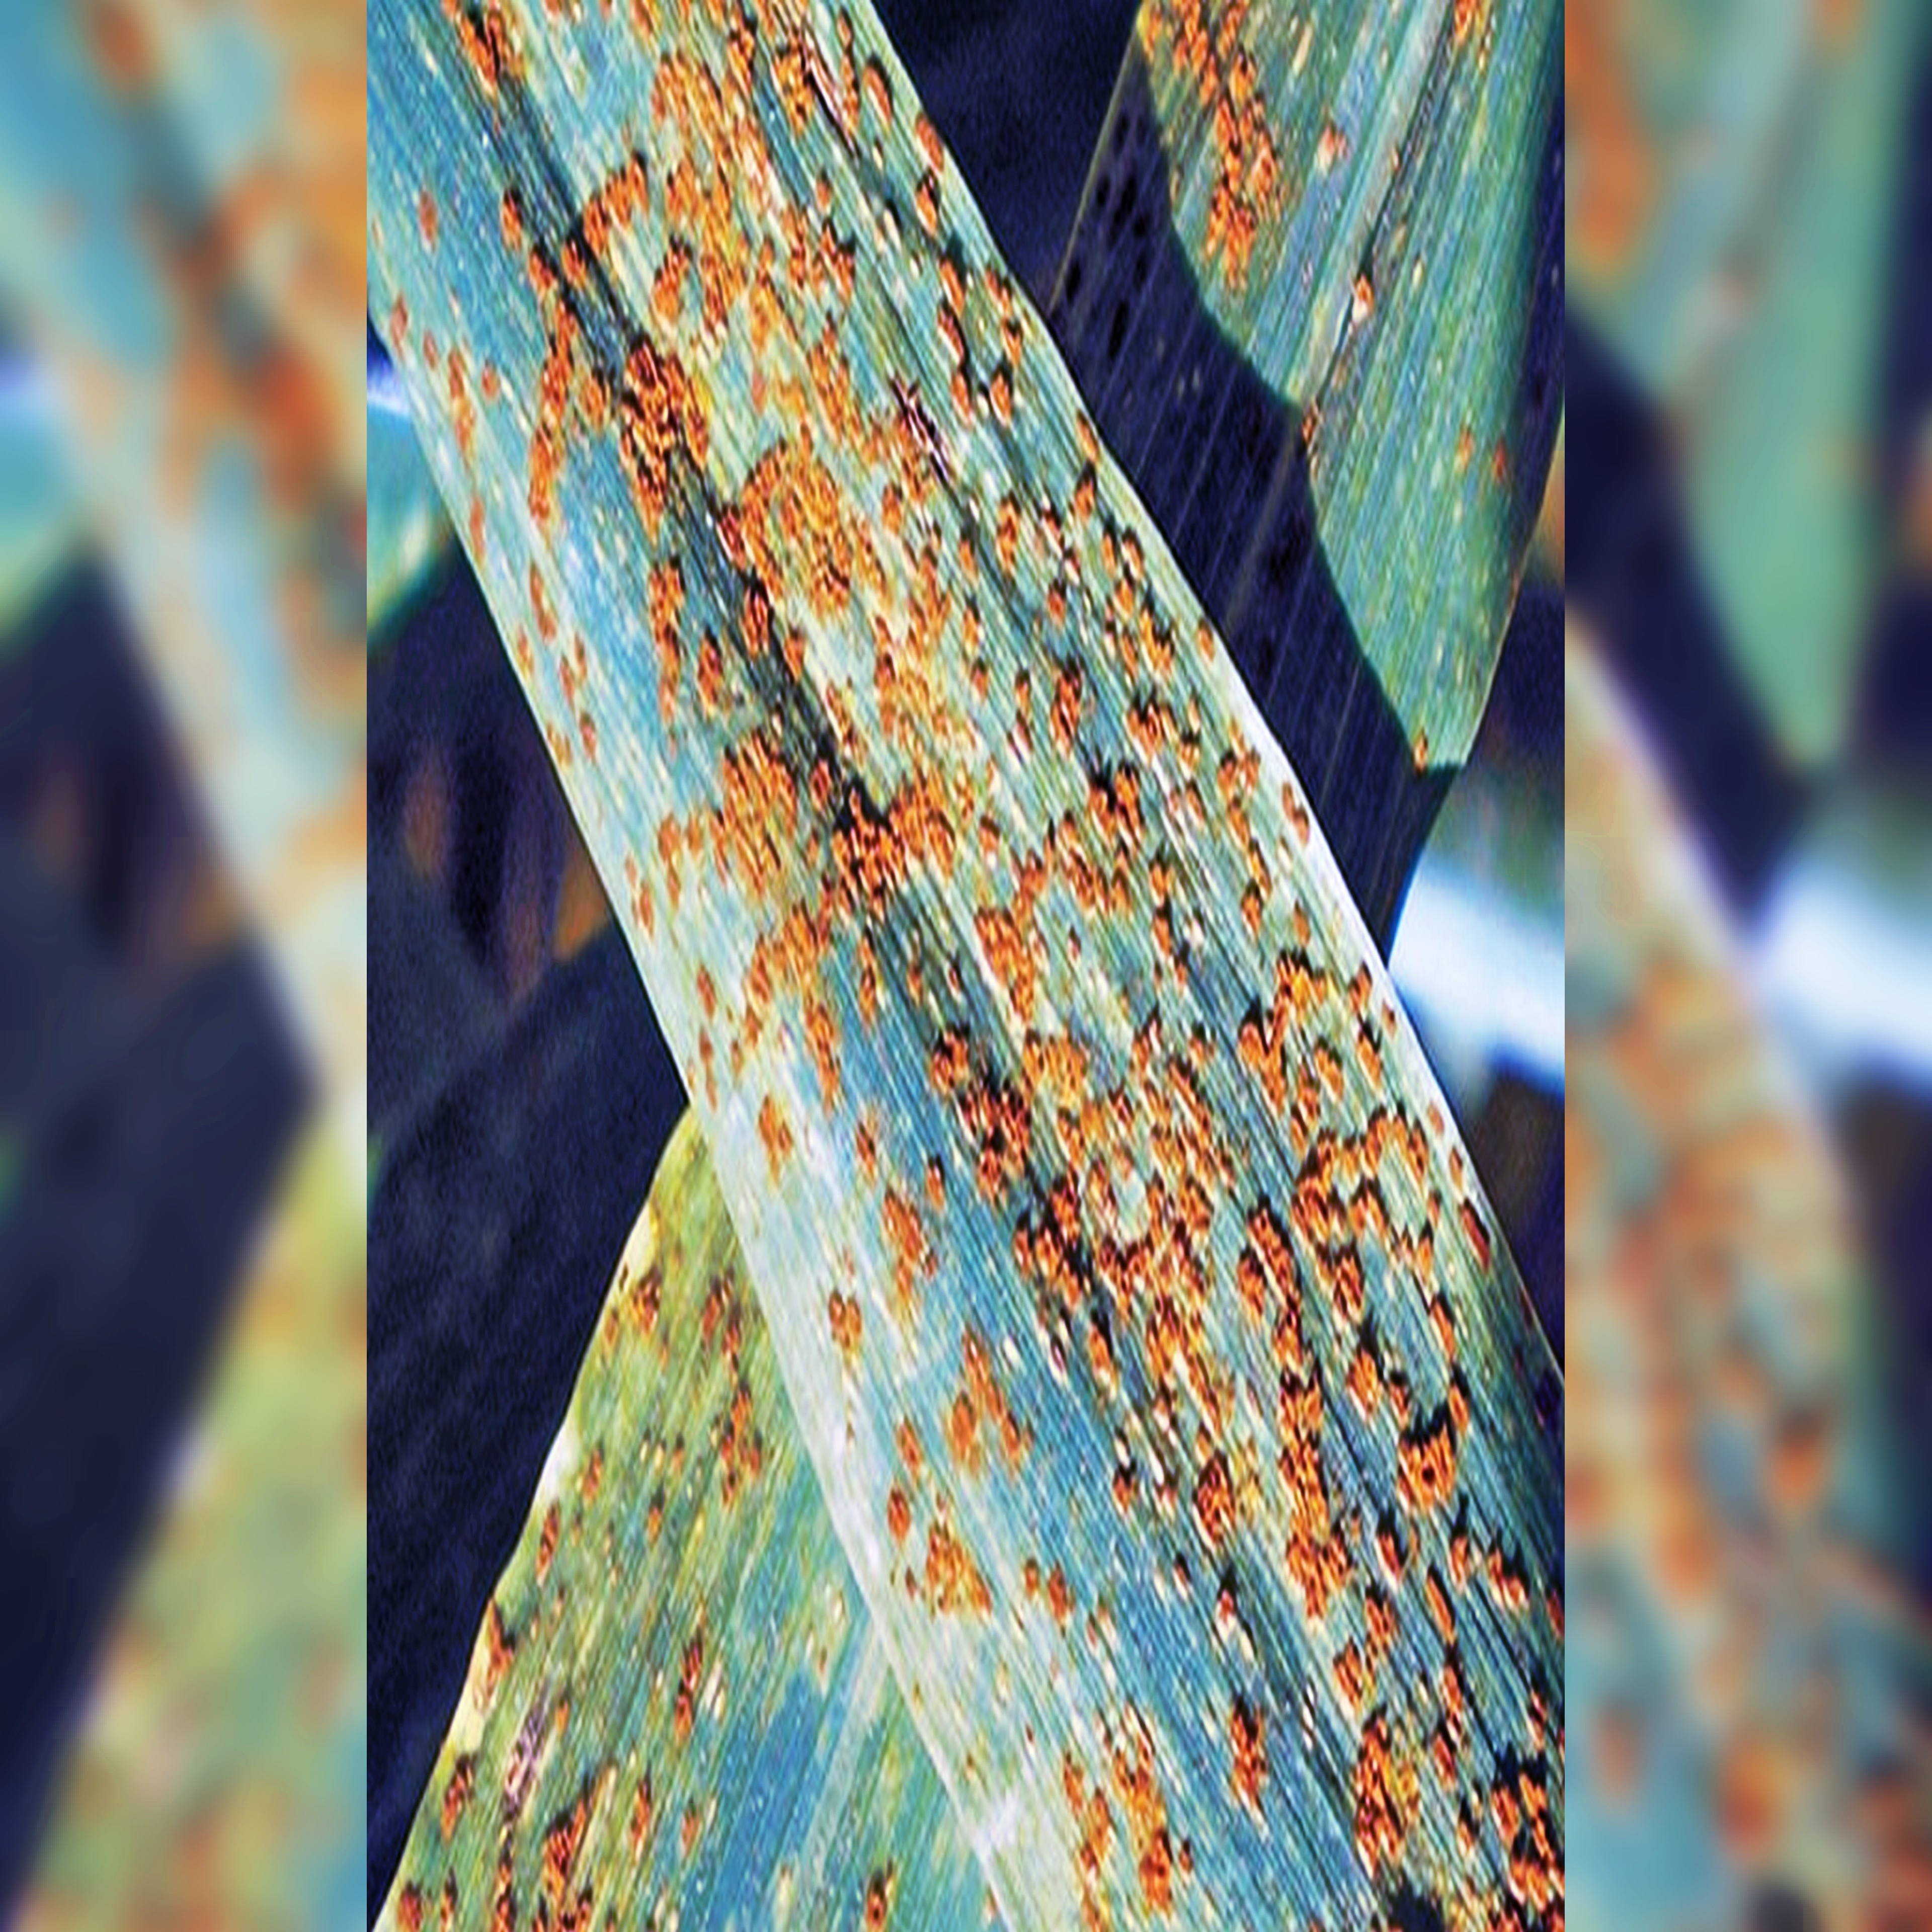Leaf Rust: (433, 142, 1543, 1769)
